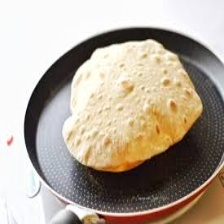roti: (61, 38, 204, 174)
